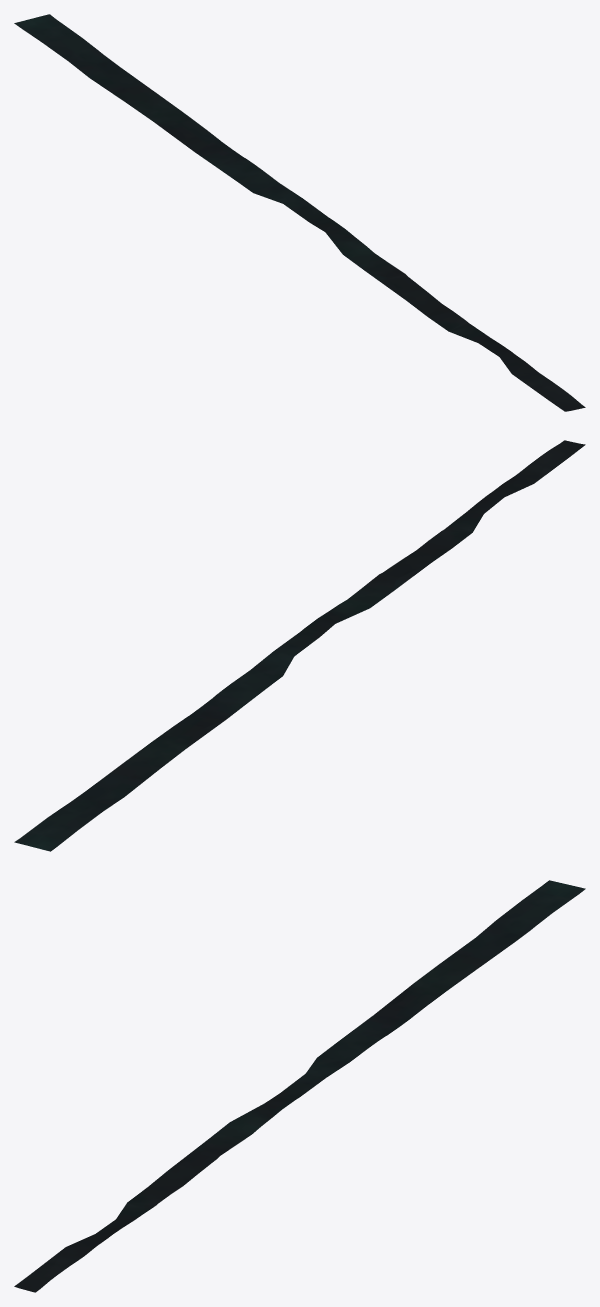
The picture shows the model from 3 angles, top to bottom: view 1: azimuth 30°, elevation 25°; view 2: azimuth 150°, elevation 25°; view 3: azimuth 330°, elevation 25°; orthographic projection. The views are drawn at different scales.
Size of the model in its own units: 4.02 by 0.4651 by 104.
Materials: 1 (1 with a texture image).
